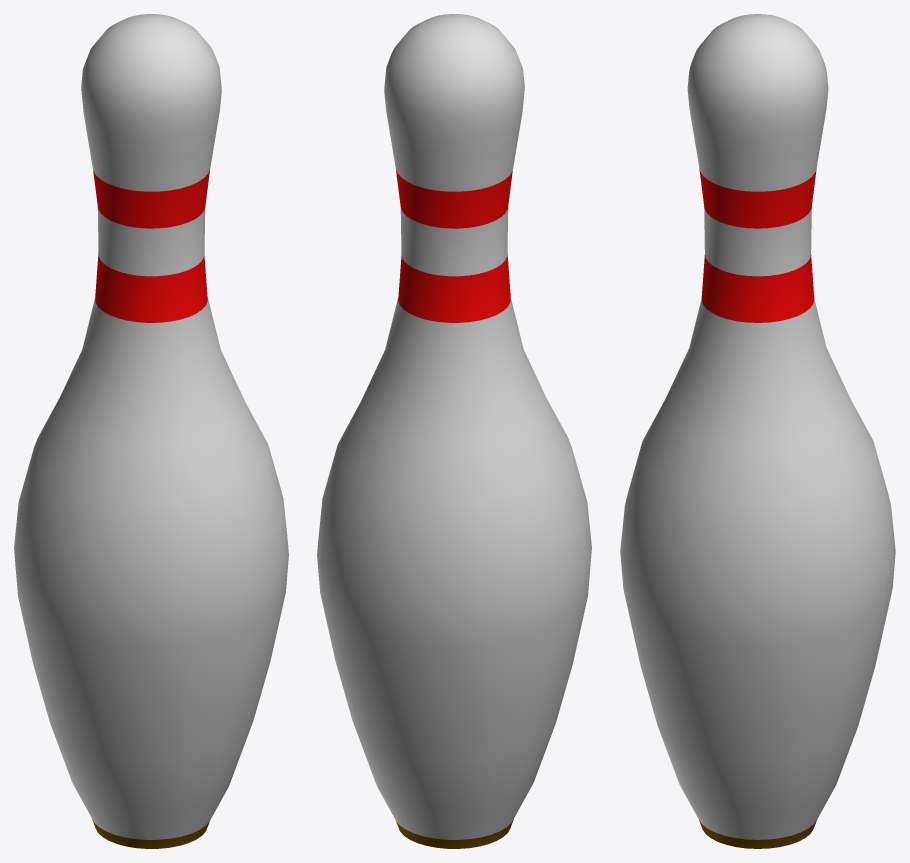
The model's file is pin2.glb.
The picture shows the model from 3 angles, left to right: view 1: azimuth 30°, elevation 25°; view 2: azimuth 150°, elevation 25°; view 3: azimuth 270°, elevation 25°; orthographic projection.
Visible parts, largest first — view 1: Bowling Pin_2; view 2: Bowling Pin_2; view 3: Bowling Pin_2.
Boxes of the visible parts, x1,y1,x2,y2 form: Bowling Pin_2: [14, 14, 288, 848]; Bowling Pin_2: [317, 14, 591, 848]; Bowling Pin_2: [620, 14, 895, 848].
Size of the model in its own units: 1.38 by 4.45 by 1.38.
